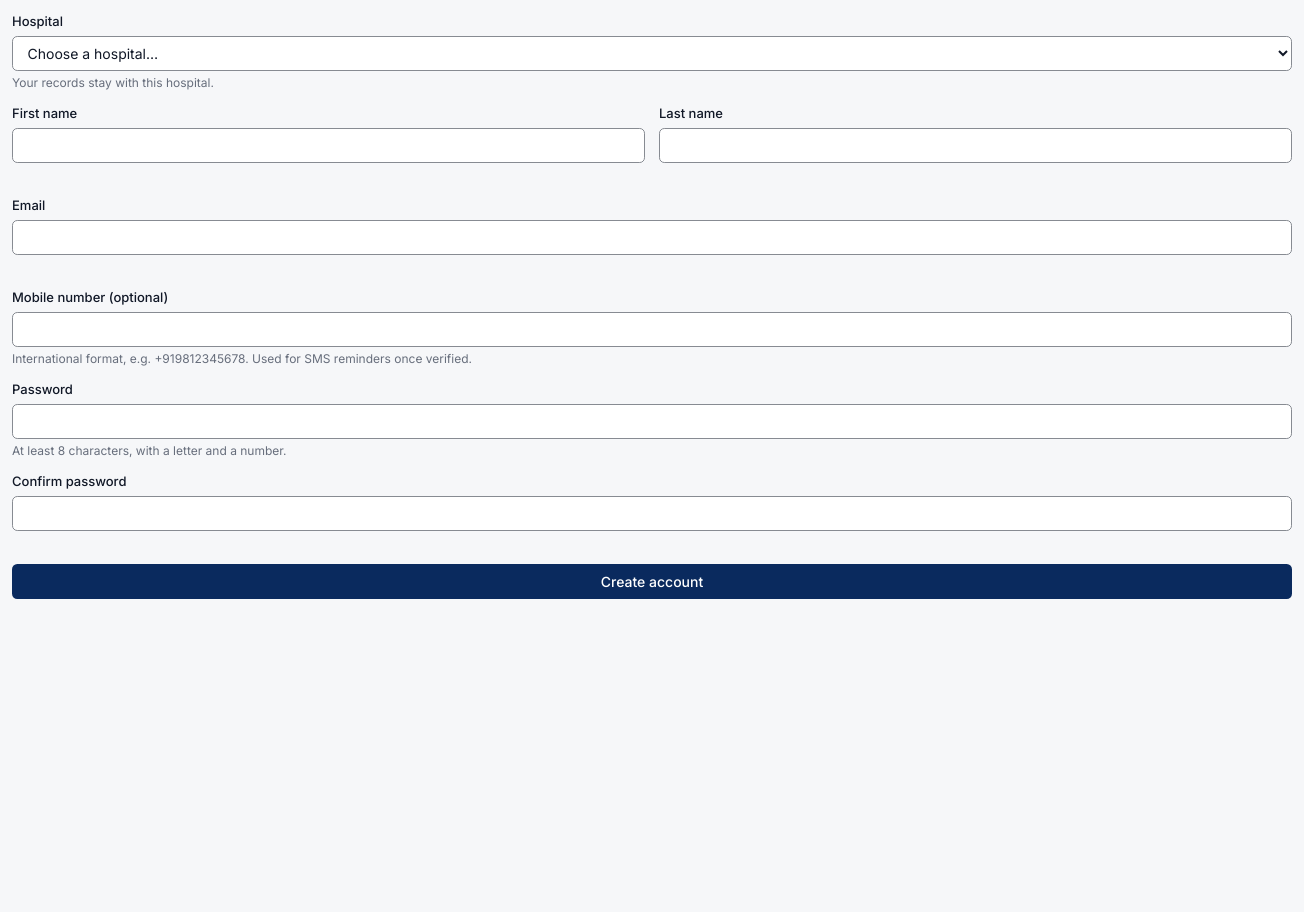
Test: RegisterForm › shows a server validation message (e.g. a taken email)
Select "City Hospital — Pune" in the dropdown labelled "Hospital": (652, 53) x1=12 y1=36 x2=1292 y2=71
In the field labelled "First name": (328, 145) x1=12 y1=128 x2=645 y2=163, type "Asha"
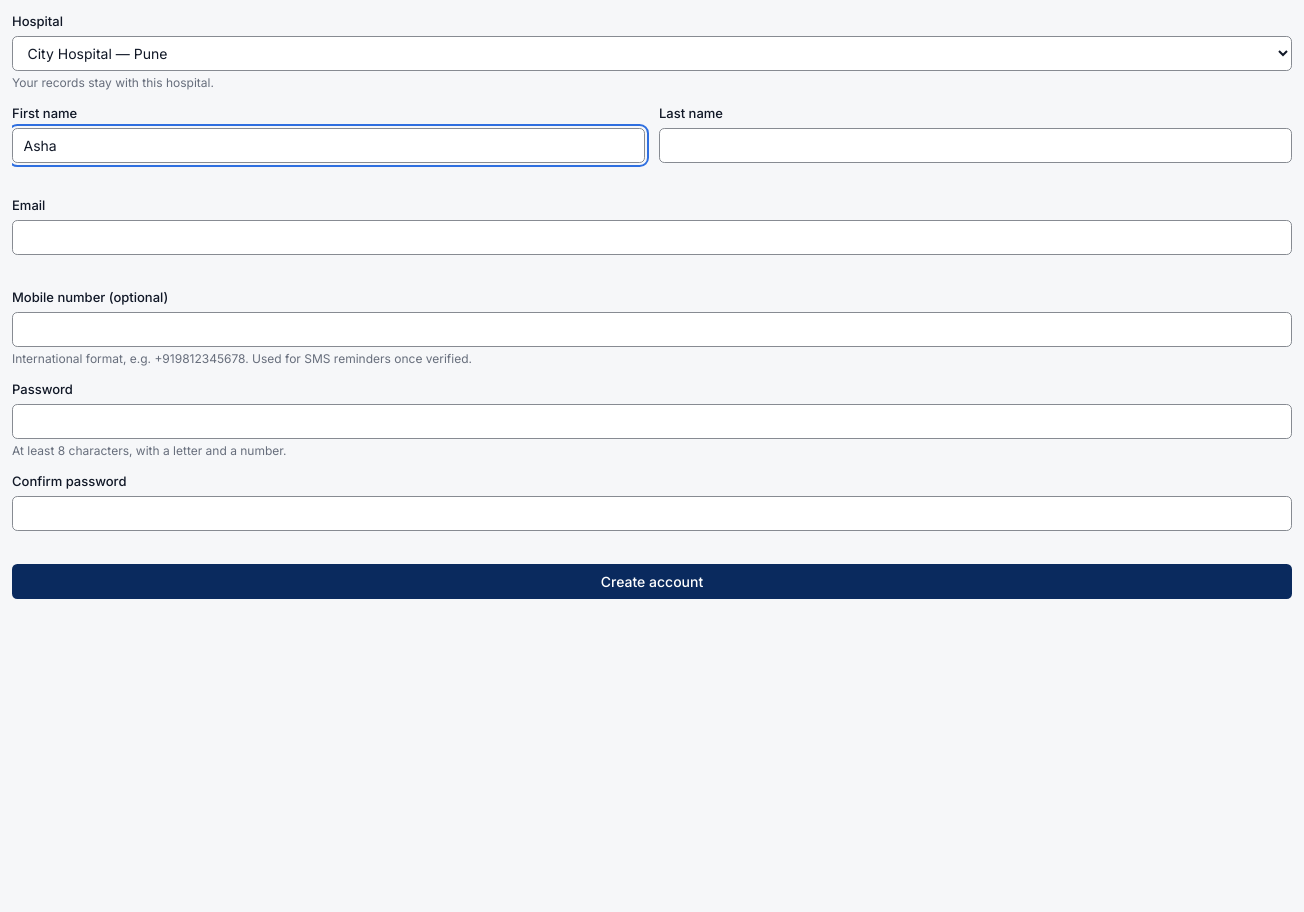
In the field labelled "Last name": (976, 145) x1=659 y1=128 x2=1292 y2=163, type "Rao"
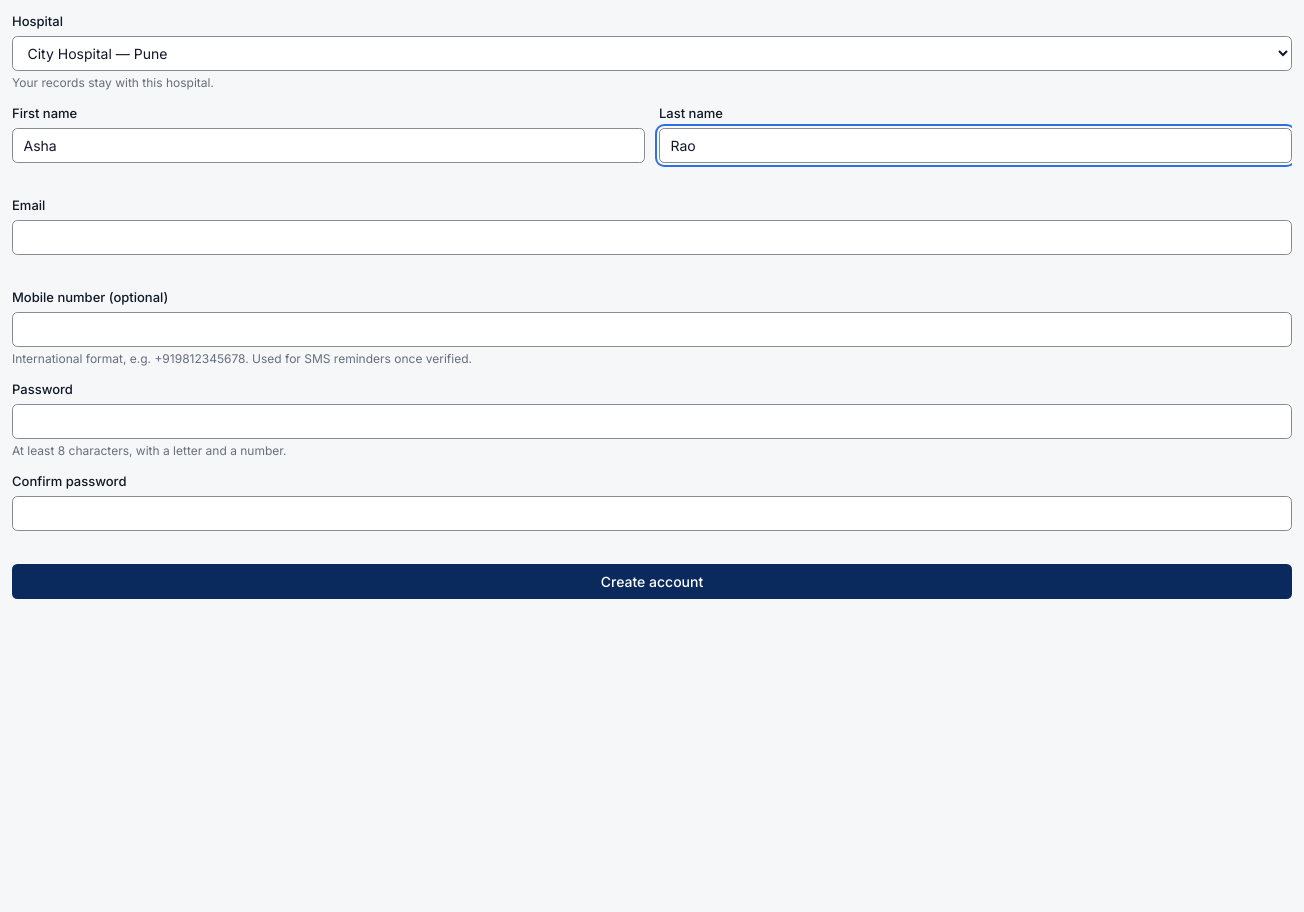
In the field labelled "Email": (652, 237) x1=12 y1=220 x2=1292 y2=255, type "asha@example.com"
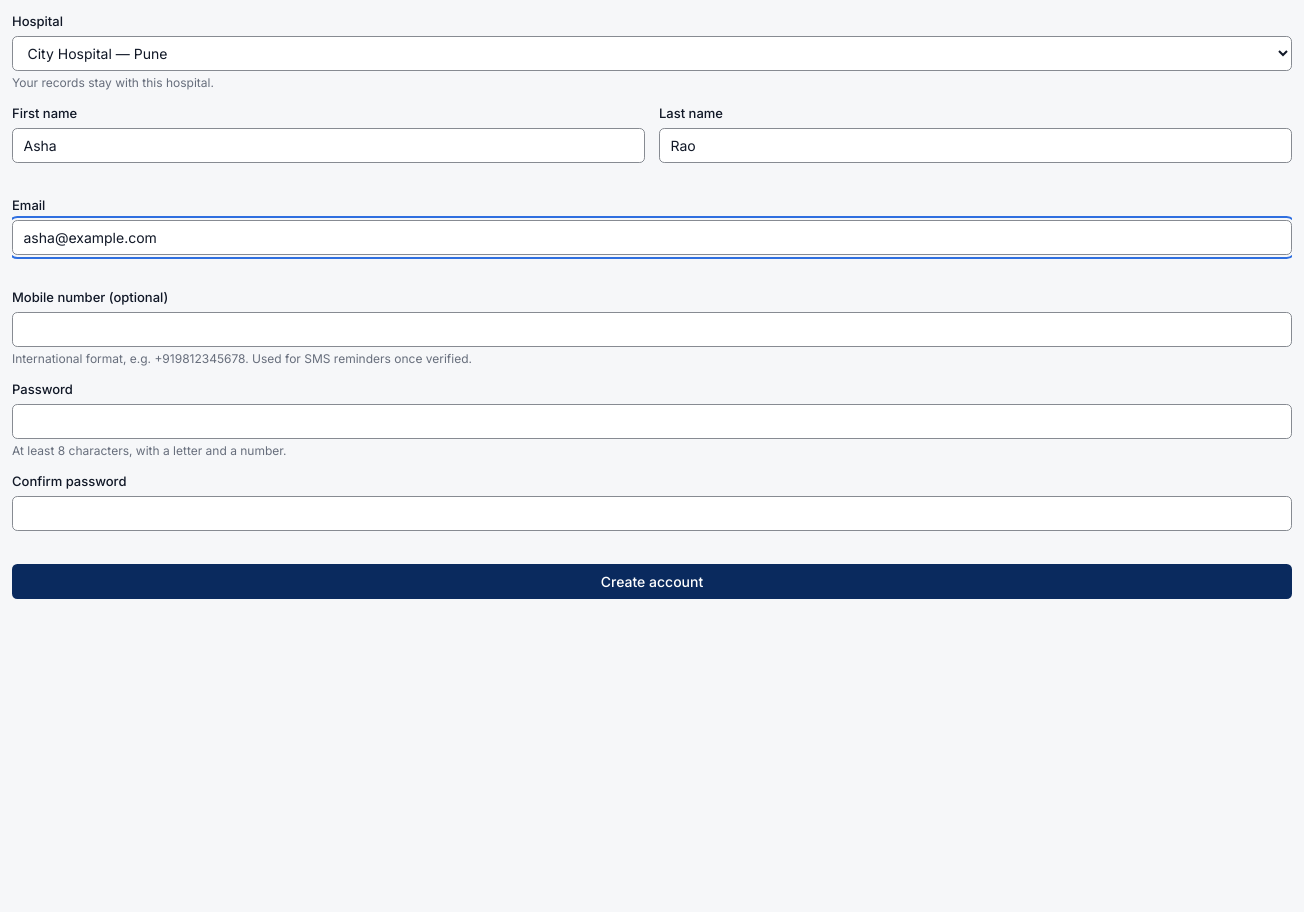
In the password field labelled "Password": (652, 422) x1=12 y1=404 x2=1292 y2=439, type "secret123"
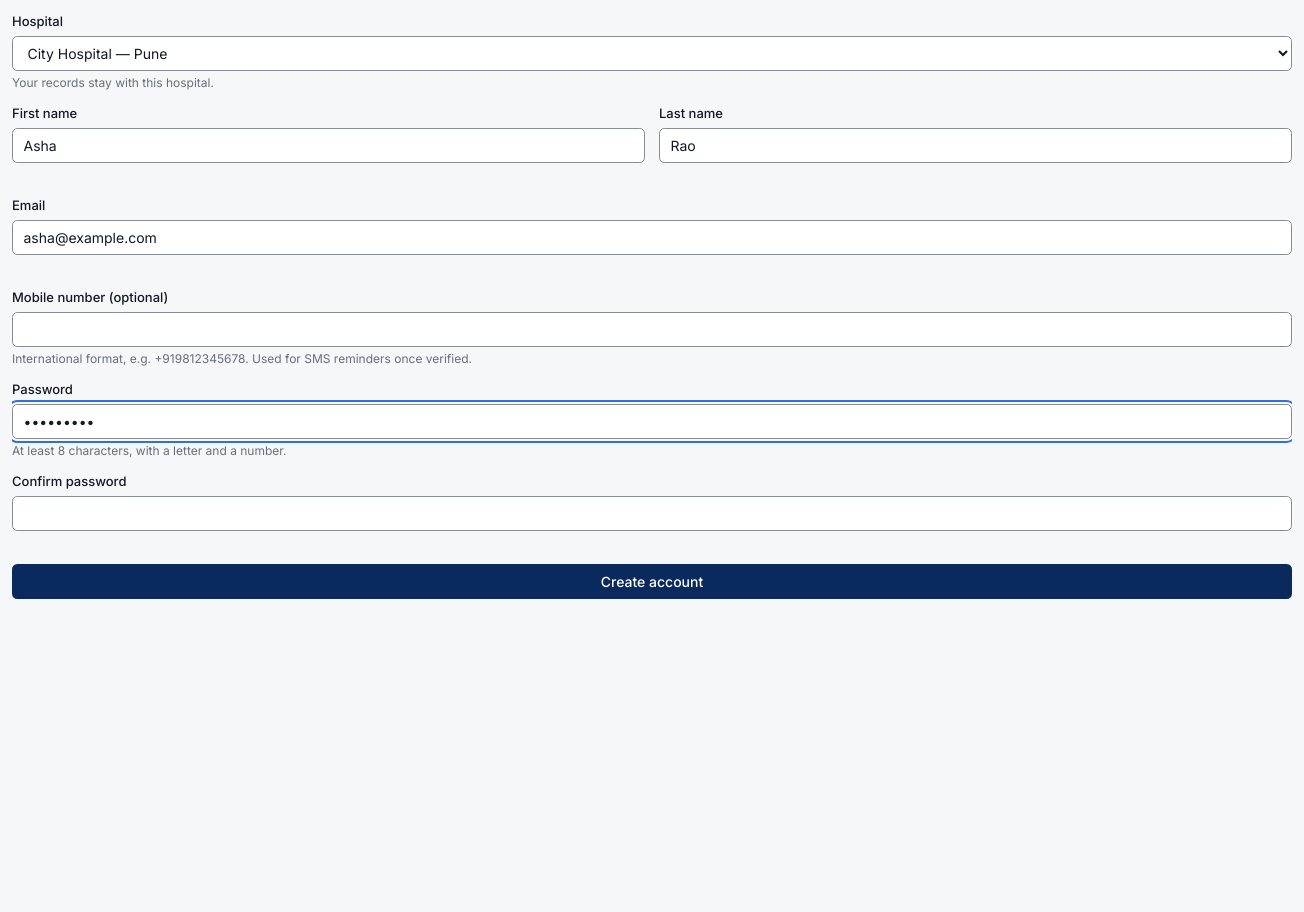
In the password field labelled "Confirm password": (652, 514) x1=12 y1=496 x2=1292 y2=531, type "secret123"
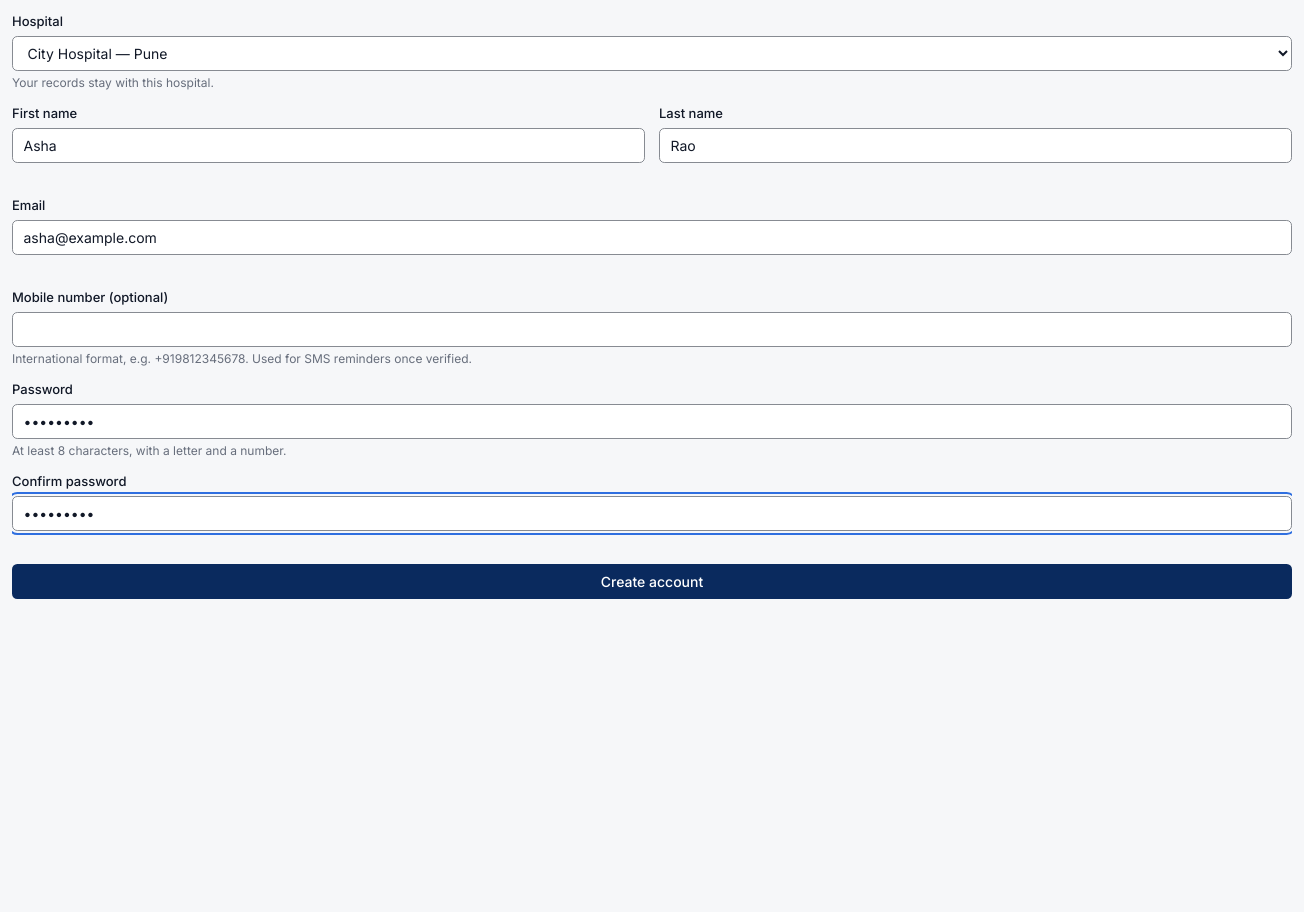
Click the button "Create account": (652, 582) x1=12 y1=564 x2=1292 y2=599
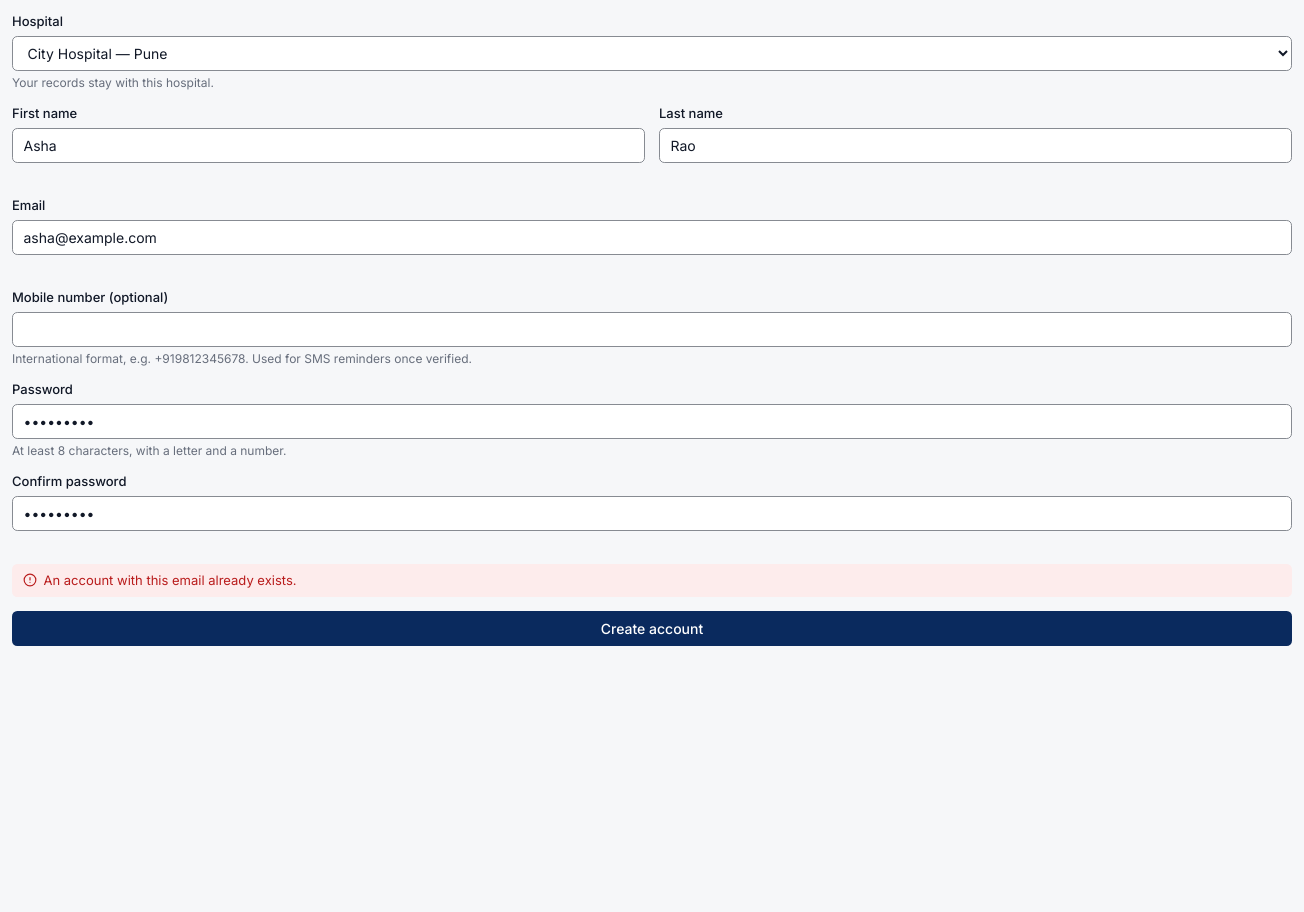
Expected: the message reads "An account with this email already exists.", x1=44 y1=572 x2=296 y2=588
